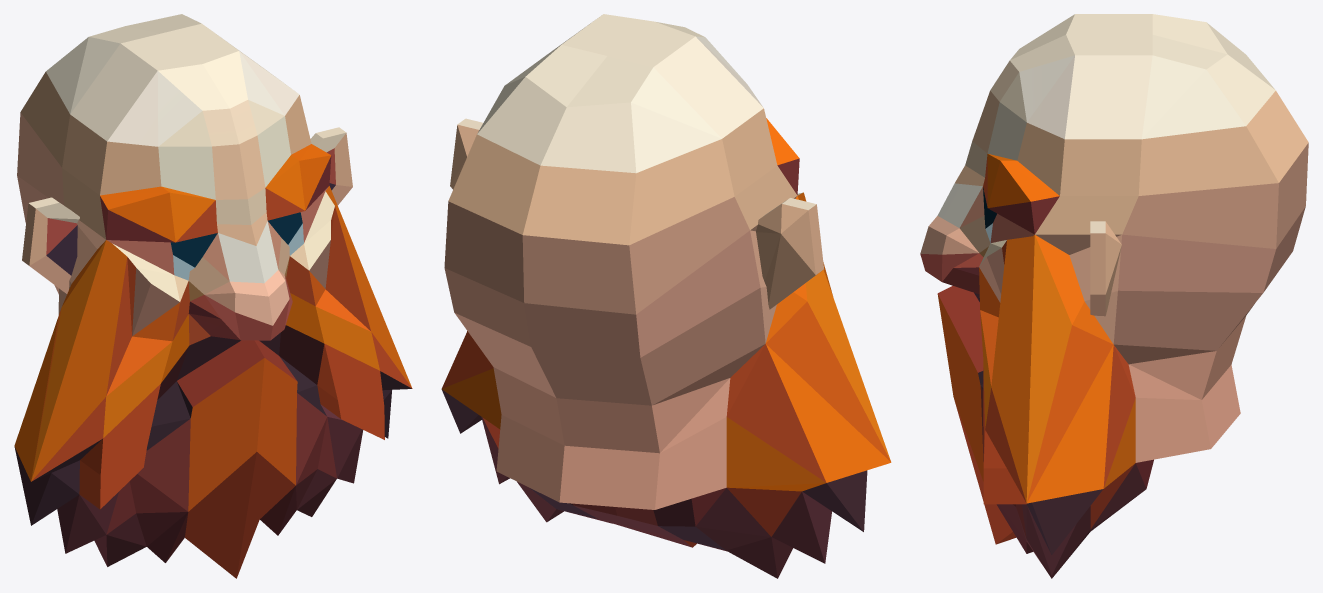
The model's file is Olaf.glb.
3 renders of one model, left to right at view 1: azimuth 30°, elevation 25°; view 2: azimuth 150°, elevation 25°; view 3: azimuth 270°, elevation 25°, orthographic. The views are drawn at different scales.
Visible parts, largest first — view 1: LogoHead; view 2: LogoHead; view 3: LogoHead.
Boxes of the visible parts, <box> form: LogoHead: <box>14,14,412,578</box>; LogoHead: <box>441,14,891,578</box>; LogoHead: <box>920,14,1308,578</box>.
Size of the model in its own units: 0.0721 by 0.0885 by 0.0611.
1 material, 1 textured.
